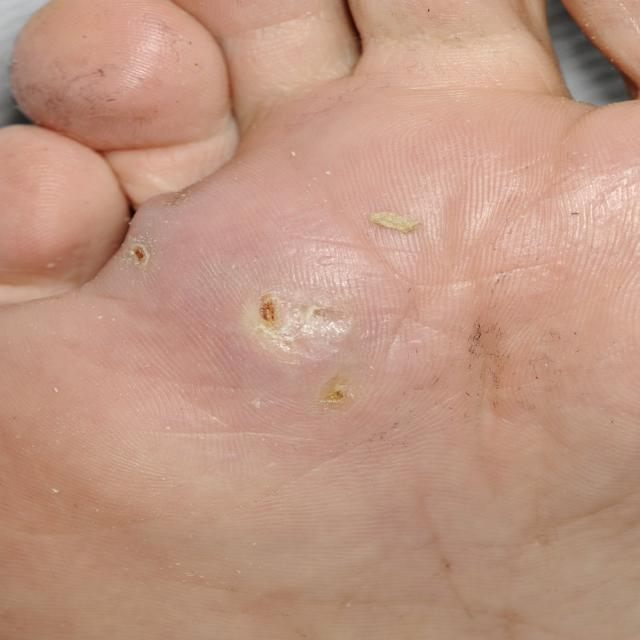wound: (174, 206, 552, 423)
